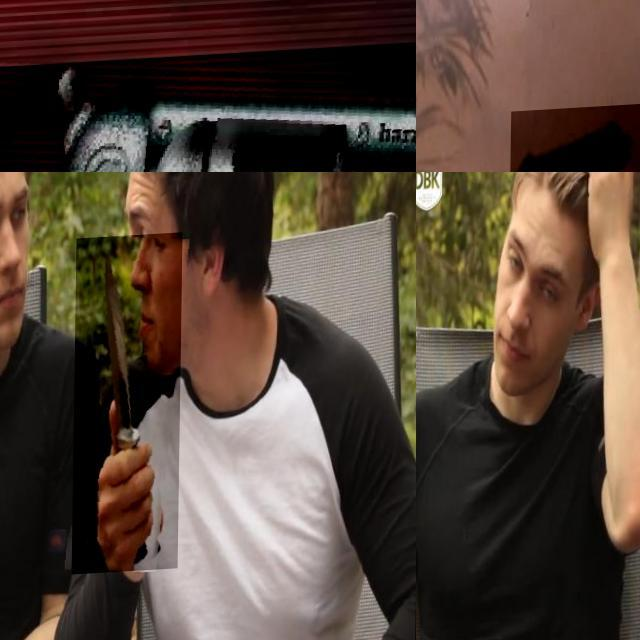-: (73, 238, 183, 579)
gun-knife-thesis - v11 Yolov5 augmented: (0, 45, 416, 172), (509, 107, 640, 172)
